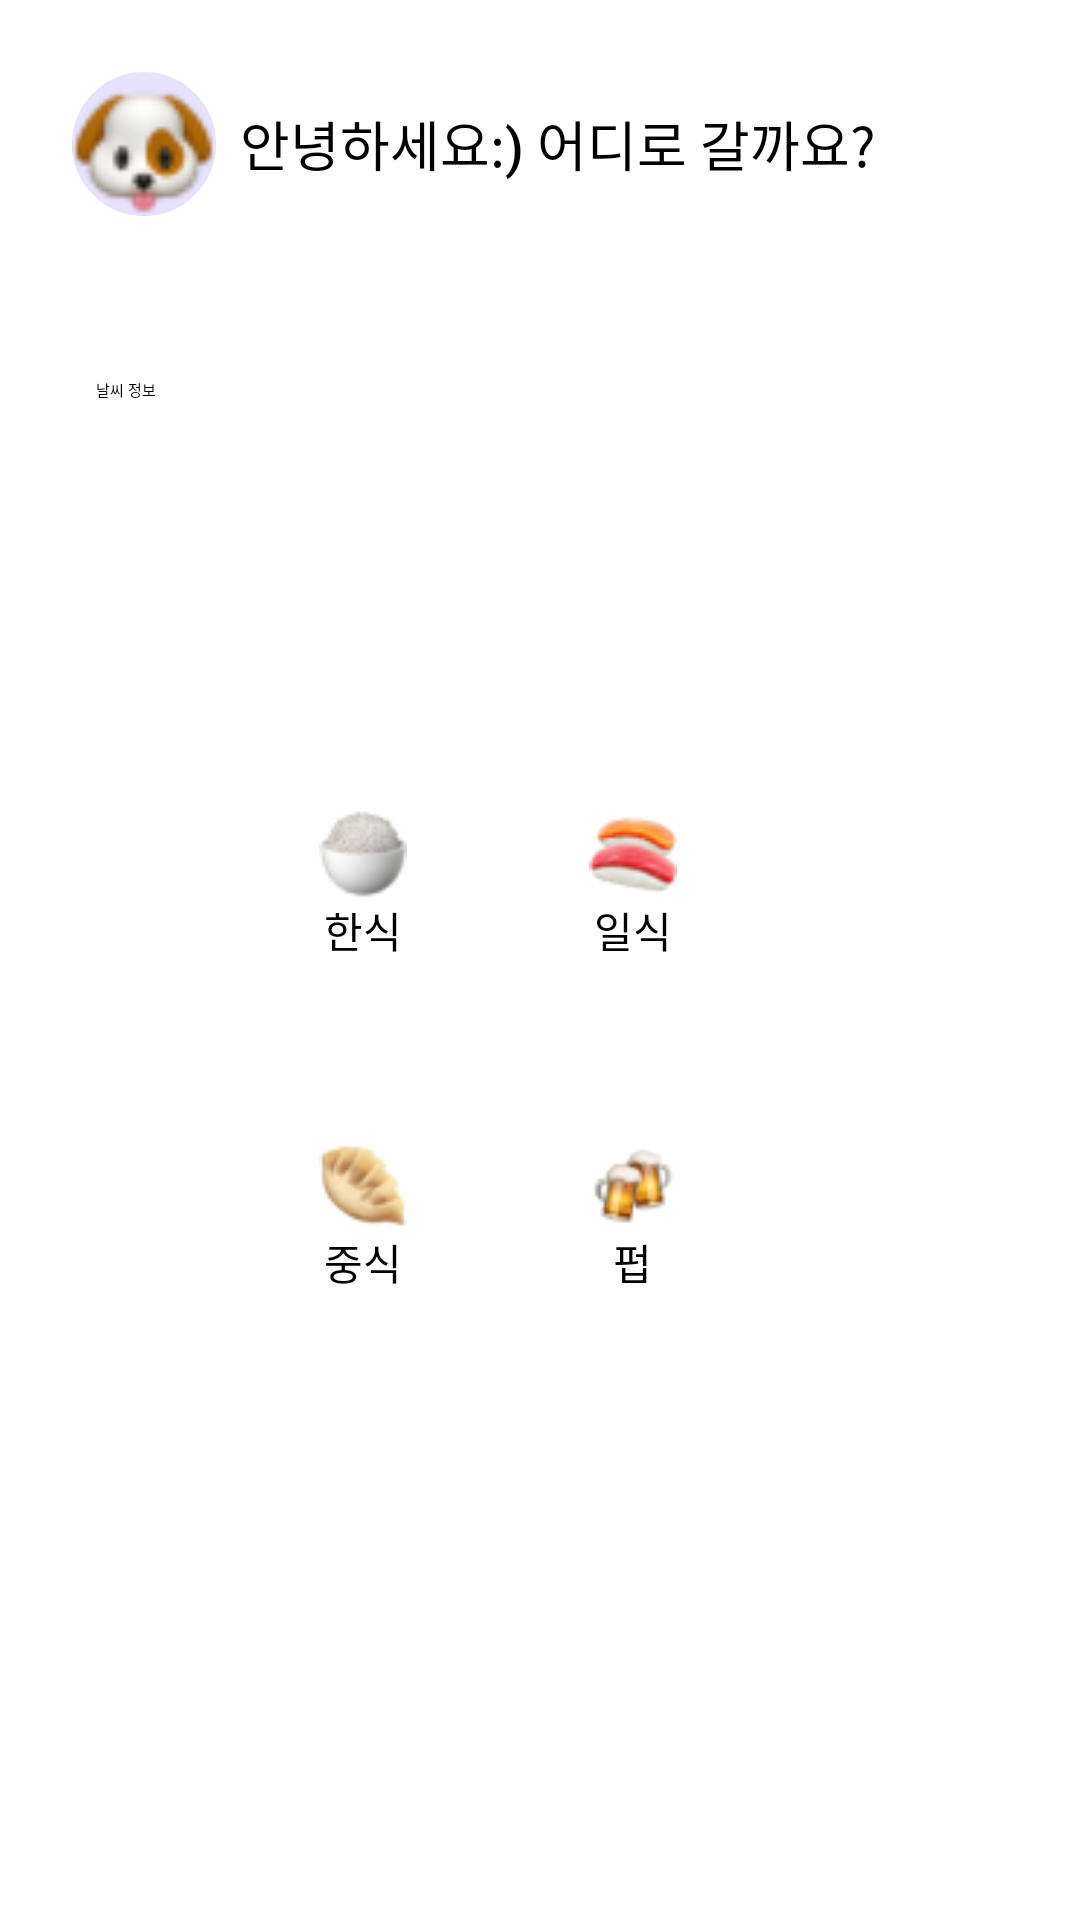

Screen size 1080 × 1920. Icon name, then its center in pixels as (x=x, y=y):
Profile Image: (x=144, y=144)
